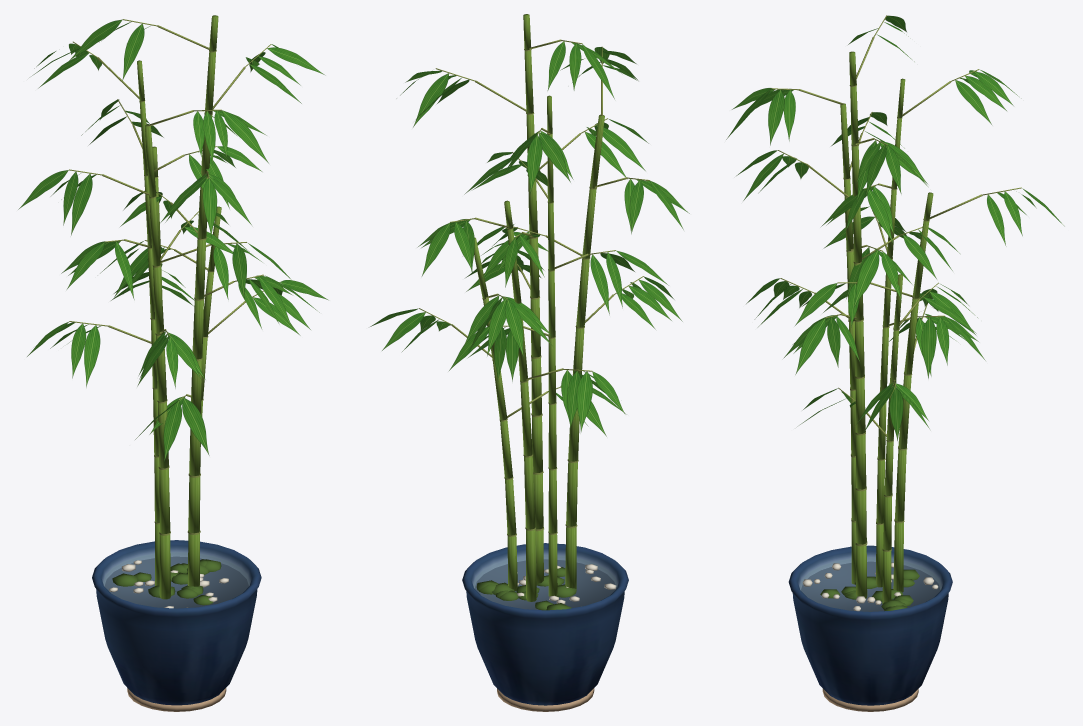
The model's file is bamboopot.glb.
The picture shows the model from 3 angles, left to right: view 1: azimuth 30°, elevation 25°; view 2: azimuth 150°, elevation 25°; view 3: azimuth 270°, elevation 25°; orthographic projection. The views are drawn at different scales.
Parts seen in each view (by area): view 1: BambooLeaves, BambooPot, BambooCulm1_0, BambooPotFoot, BambooCulm1_1, BambooCulm0_1, BambooCulm0_0, BambooCulm0_4, BambooCulm1_4, BambooCulm0_5, BambooCulm1_5, BambooCulm1_6 (+1 smaller); view 2: BambooLeaves, BambooPot, BambooCulm2_0, BambooCulm2_1, BambooCulm1_0, BambooPotFoot, BambooCulm1_1, BambooCulm2_2, BambooCulm4_0, BambooCulm1_4, BambooCulm0_2, BambooCulm0_3 (+7 smaller); view 3: BambooLeaves, BambooPot, BambooCulm2_0, BambooPotFoot, BambooCulm2_1, BambooCulm0_1, BambooCulm0_0, BambooCulm2_3, BambooCulm0_3, BambooCulm0_2.
Boxes of the visible parts, <box> form: BambooLeaves: <box>18,19,328,462</box>; BambooPot: <box>92,540,261,705</box>; BambooCulm1_0: <box>159,534,170,599</box>; BambooPotFoot: <box>127,688,226,711</box>; BambooCulm1_1: <box>159,469,170,533</box>; BambooCulm0_1: <box>188,476,200,533</box>; BambooCulm0_0: <box>187,533,199,586</box>; BambooCulm0_4: <box>192,299,203,359</box>; BambooCulm1_4: <box>153,266,164,334</box>; BambooCulm0_5: <box>194,239,206,299</box>; BambooCulm1_5: <box>149,197,160,266</box>; BambooCulm1_6: <box>145,124,156,197</box>; BambooLeaves: <box>370,41,689,436</box>; BambooPot: <box>462,543,628,705</box>; BambooCulm2_0: <box>526,529,536,601</box>; BambooCulm2_1: <box>524,456,535,529</box>; BambooCulm1_0: <box>565,527,576,588</box>; BambooPotFoot: <box>497,688,594,711</box>; BambooCulm1_1: <box>566,462,577,526</box>; BambooCulm2_2: <box>520,381,532,456</box>; BambooCulm4_0: <box>548,534,557,596</box>; BambooCulm1_4: <box>576,259,589,327</box>; BambooCulm0_2: <box>532,416,542,472</box>; BambooCulm0_3: <box>531,358,542,415</box>; BambooLeaves: <box>726,15,1064,440</box>; BambooPot: <box>788,545,952,705</box>; BambooCulm2_0: <box>893,522,903,592</box>; BambooPotFoot: <box>822,688,918,711</box>; BambooCulm2_1: <box>895,449,906,521</box>; BambooCulm0_1: <box>856,490,866,544</box>; BambooCulm0_0: <box>856,545,867,598</box>; BambooCulm2_3: <box>904,299,918,374</box>; BambooCulm0_3: <box>855,378,865,433</box>; BambooCulm0_2: <box>856,434,866,489</box>.
Bounding box in the file's own units: 0.7775 × 1.57 × 0.7529.
Materials: 9 (4 with a texture image).
